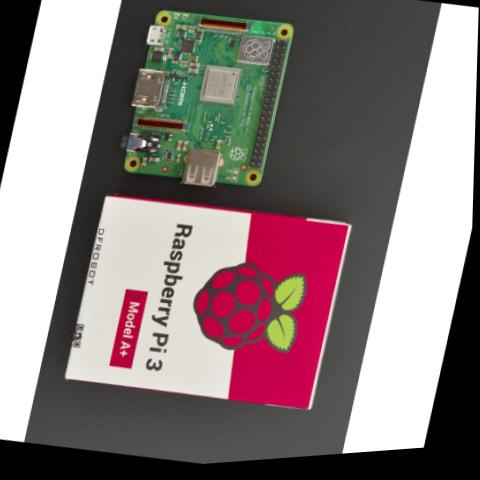Raspberry-Pi-3-Model-A-: (109, 0, 302, 209)
